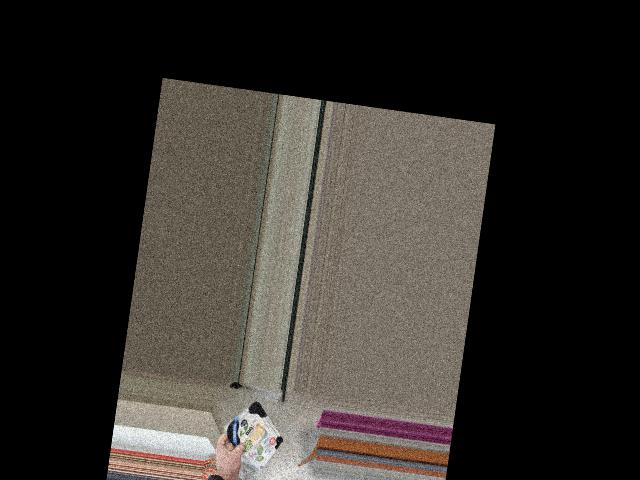cheese: (207, 404, 290, 463)
